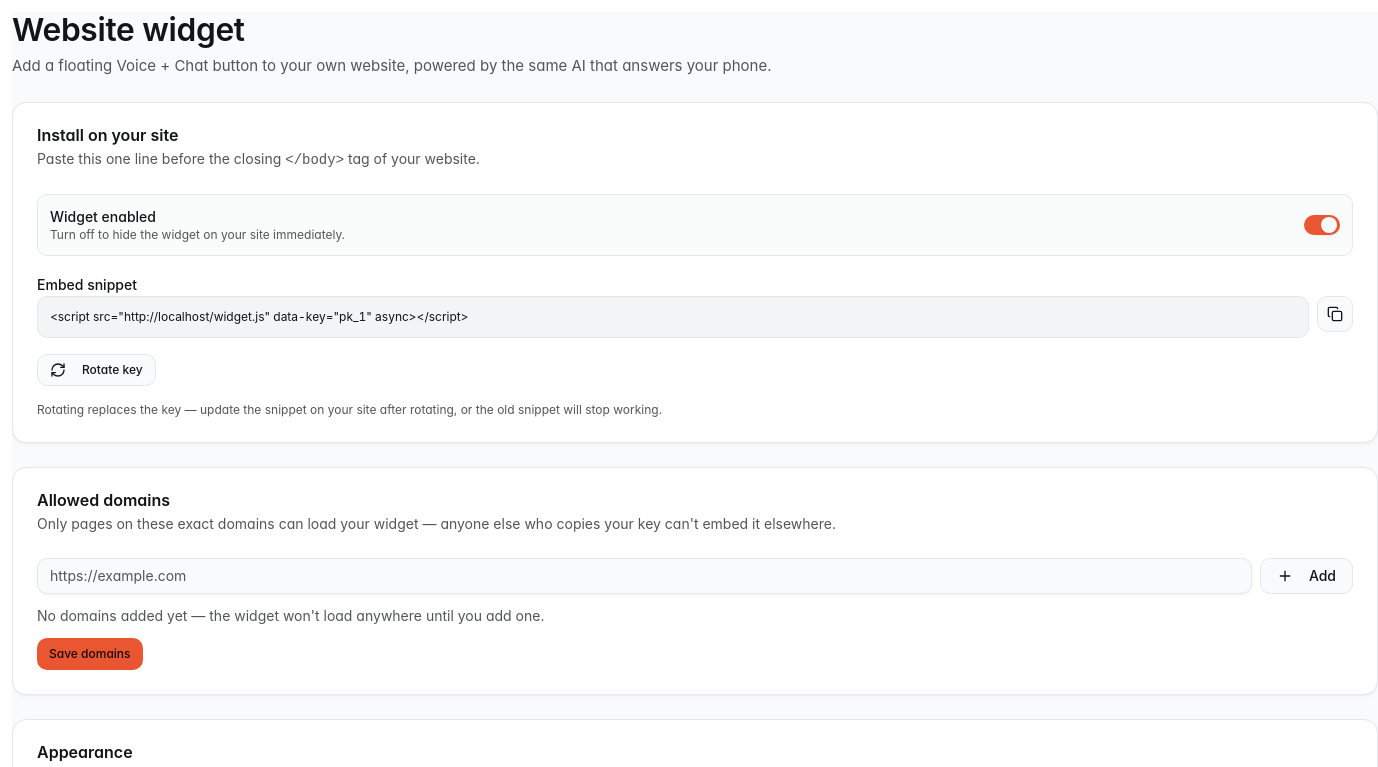
WebsiteWidgetClient › rejects an invalid origin and accepts a valid https origin
The width and height of the screenshot is (1378, 767).
Check: the text "No domains added yet" is shown, box [37, 607, 544, 624]
In the field with placeholder "https://example.com": point(644, 576) [37, 558, 1252, 594], type "not-a-url"
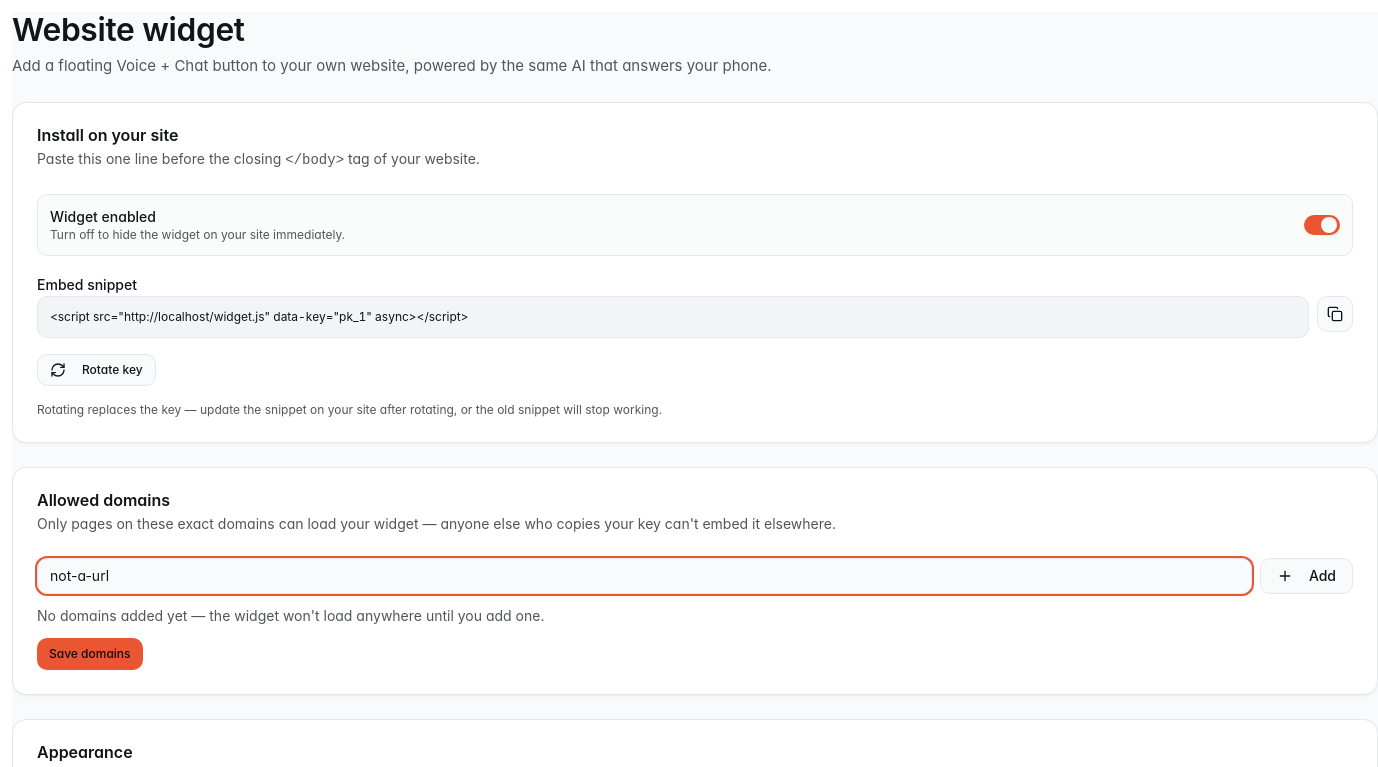
Click the button "Add": point(1306, 576) [1260, 558, 1353, 594]
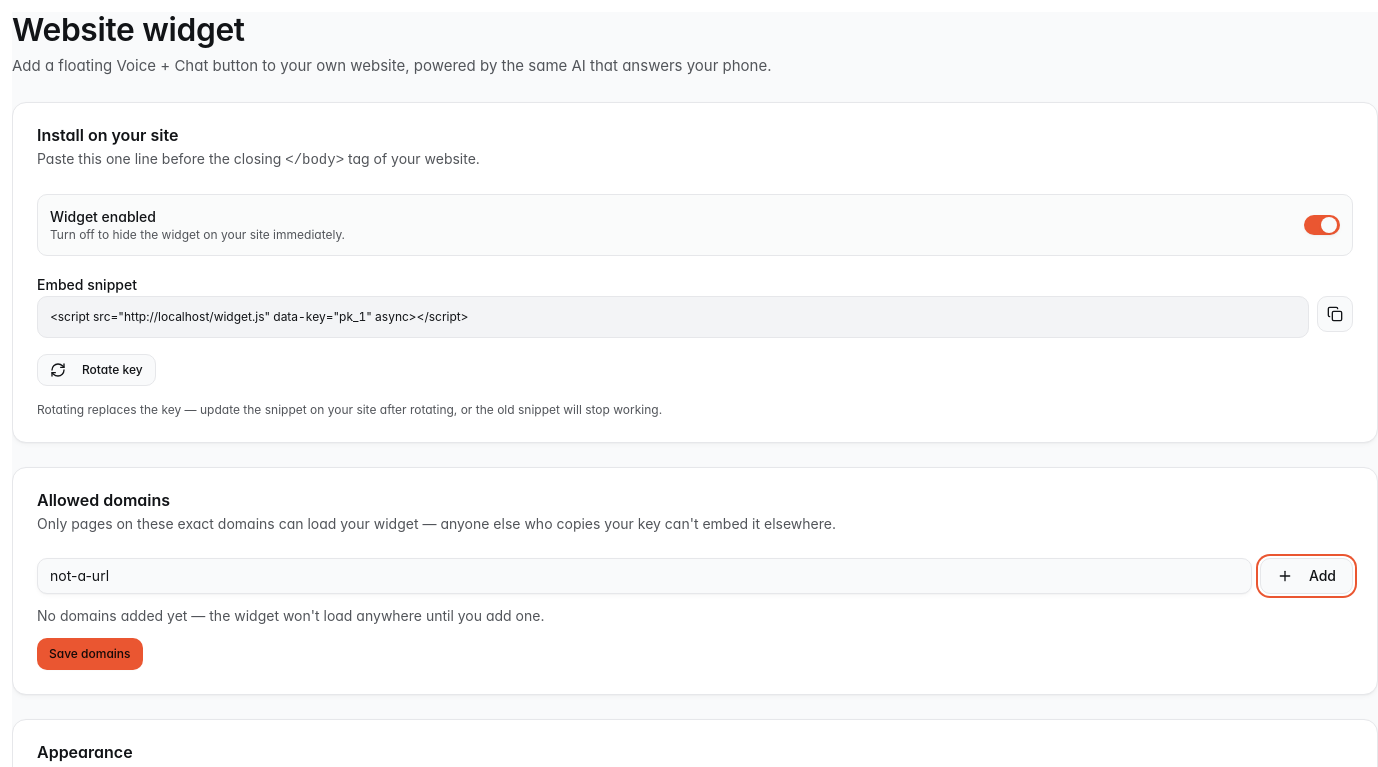
Check: the text "No domains added yet" is shown, box [37, 607, 544, 624]
Replace the text in the field with placeholder "https://example.com" with "https://acme.example": point(644, 576) [37, 558, 1252, 594]
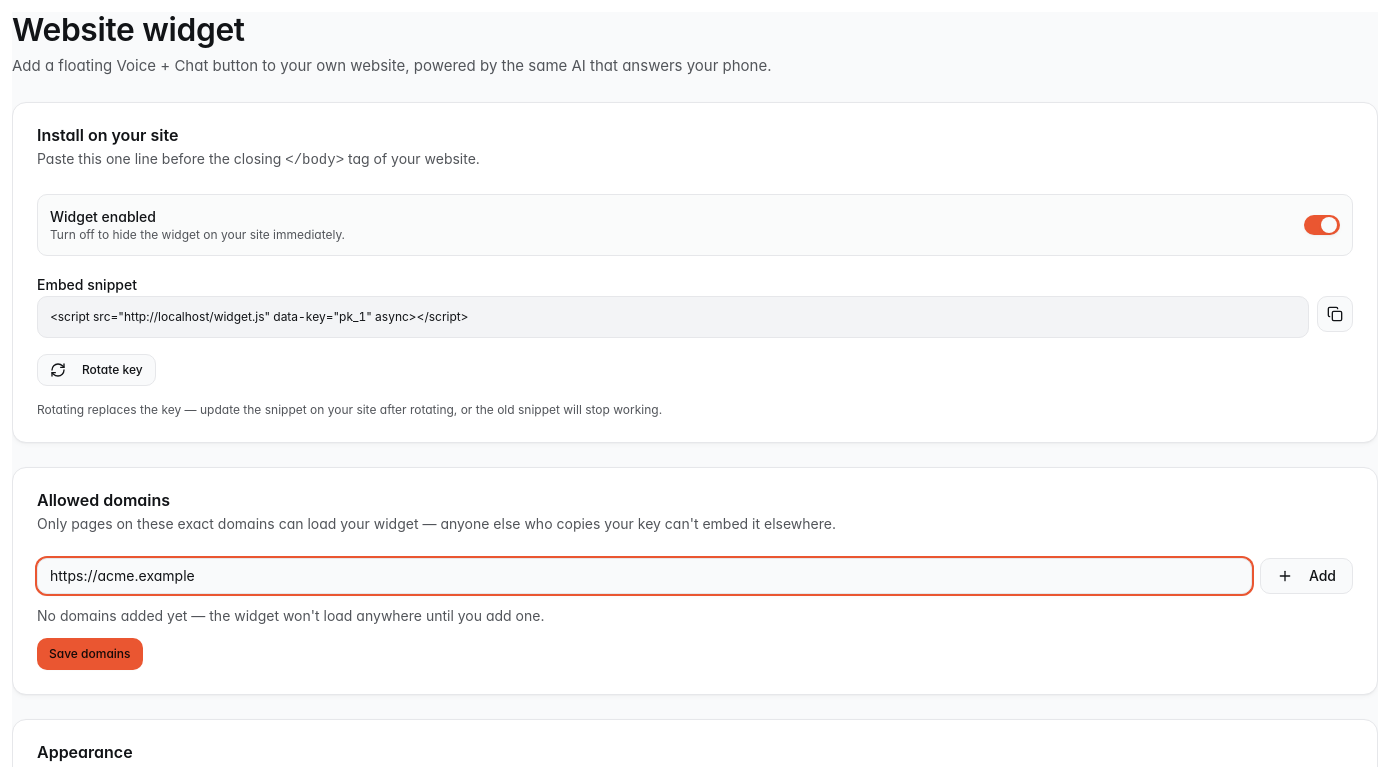
Click the button "Add": point(1306, 576) [1260, 558, 1353, 594]
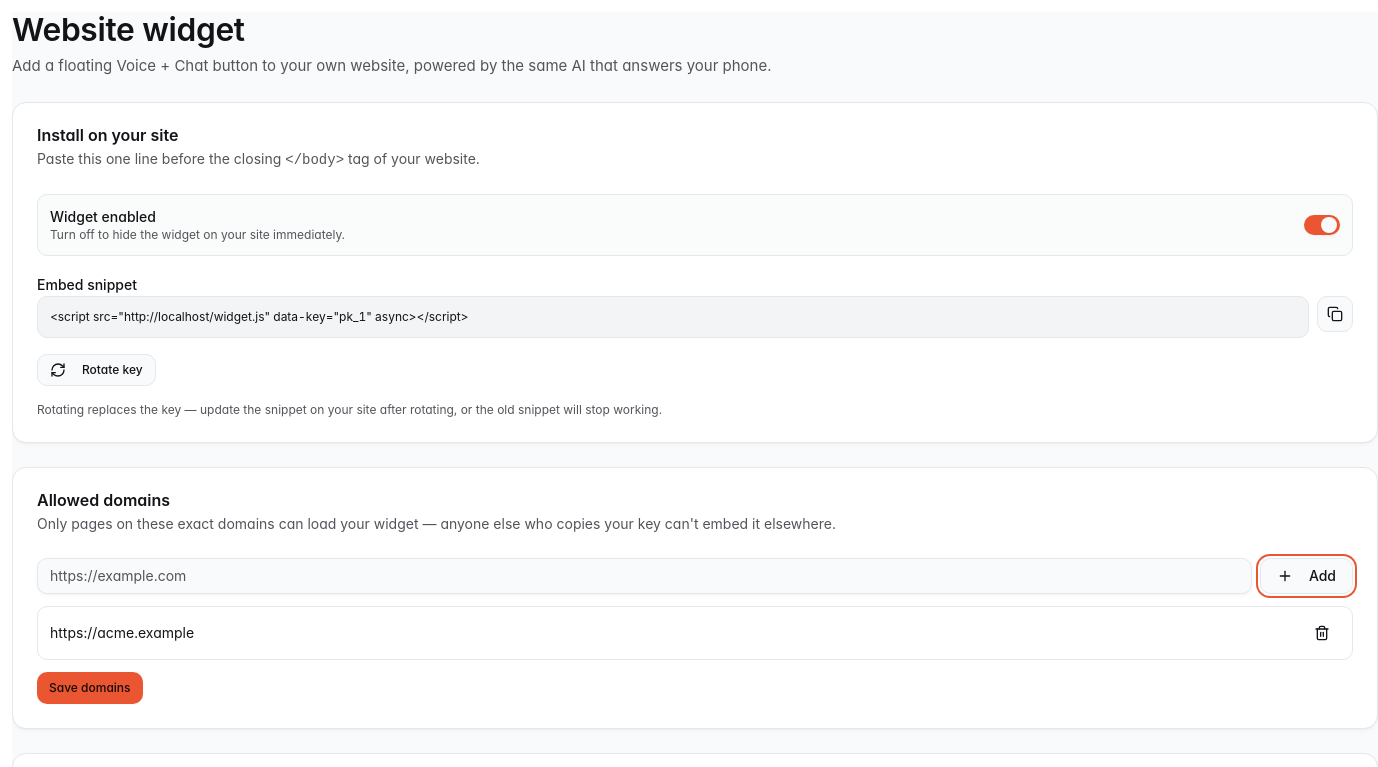
Check: the text "https://acme.example" is shown, box [50, 623, 194, 643]
